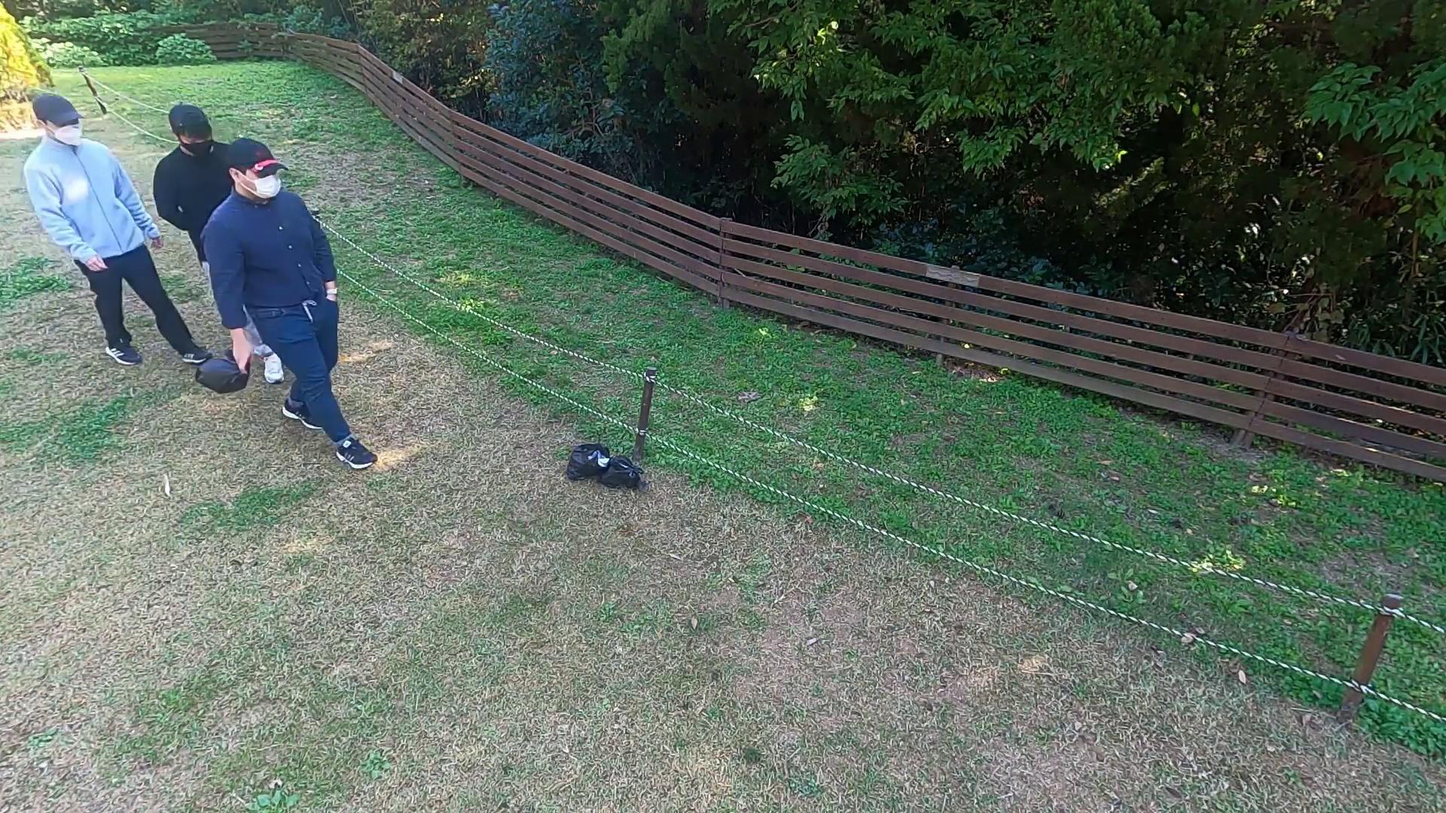person: (194, 132, 380, 473), (20, 92, 211, 368), (150, 102, 289, 388)
trash: (195, 349, 255, 394), (599, 454, 647, 494), (565, 443, 609, 482)
